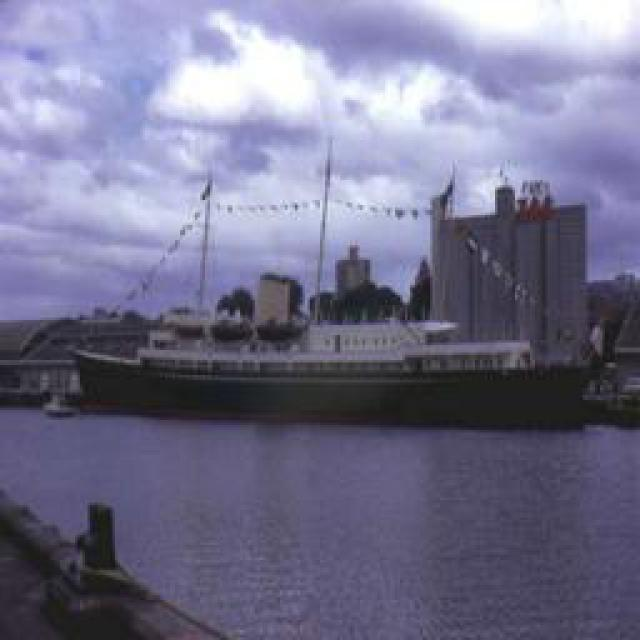Ship: (72, 296, 614, 422)
